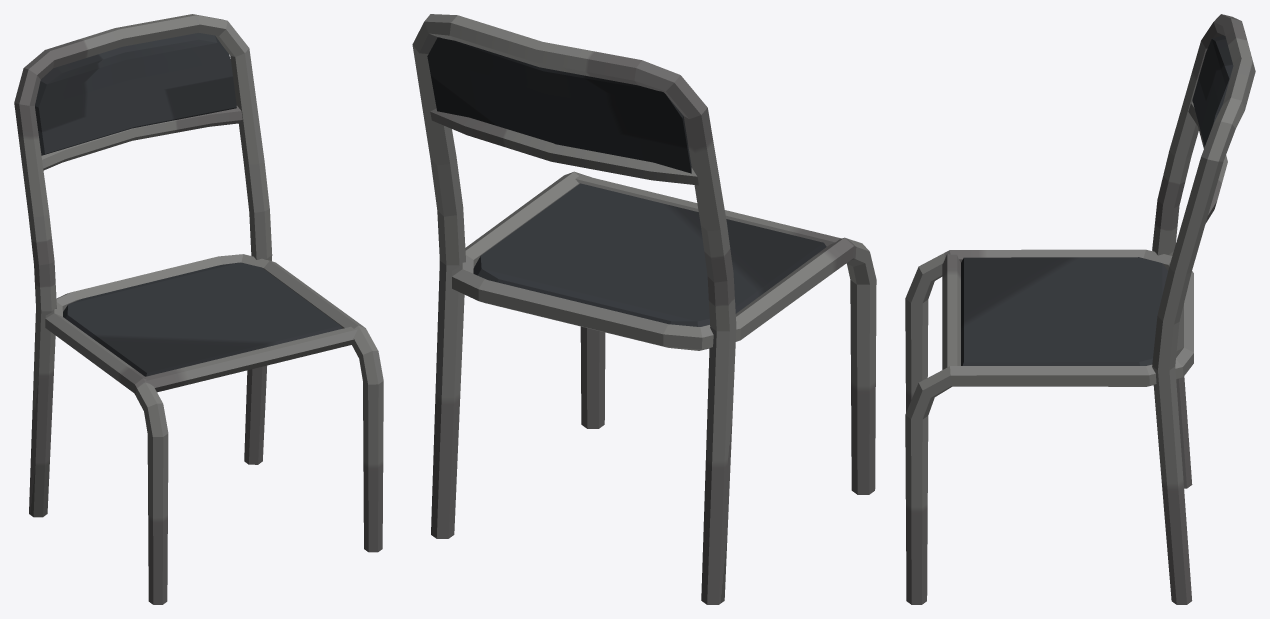
File: SM_Prop_Chair_01.fbx
3 renders of one model, left to right at view 1: azimuth 30°, elevation 25°; view 2: azimuth 150°, elevation 25°; view 3: azimuth 270°, elevation 25°, orthographic. The views are drawn at different scales.
Visible parts, largest first — view 1: SM_Prop_Chair_01; view 2: SM_Prop_Chair_01; view 3: SM_Prop_Chair_01.
Boxes of the visible parts, box(x1,y1,x2,y2) form: SM_Prop_Chair_01: box(14, 14, 383, 604); SM_Prop_Chair_01: box(412, 14, 876, 604); SM_Prop_Chair_01: box(905, 14, 1255, 604).
Bounding box in the file's own units: 53.44 × 97.16 × 63.46.
